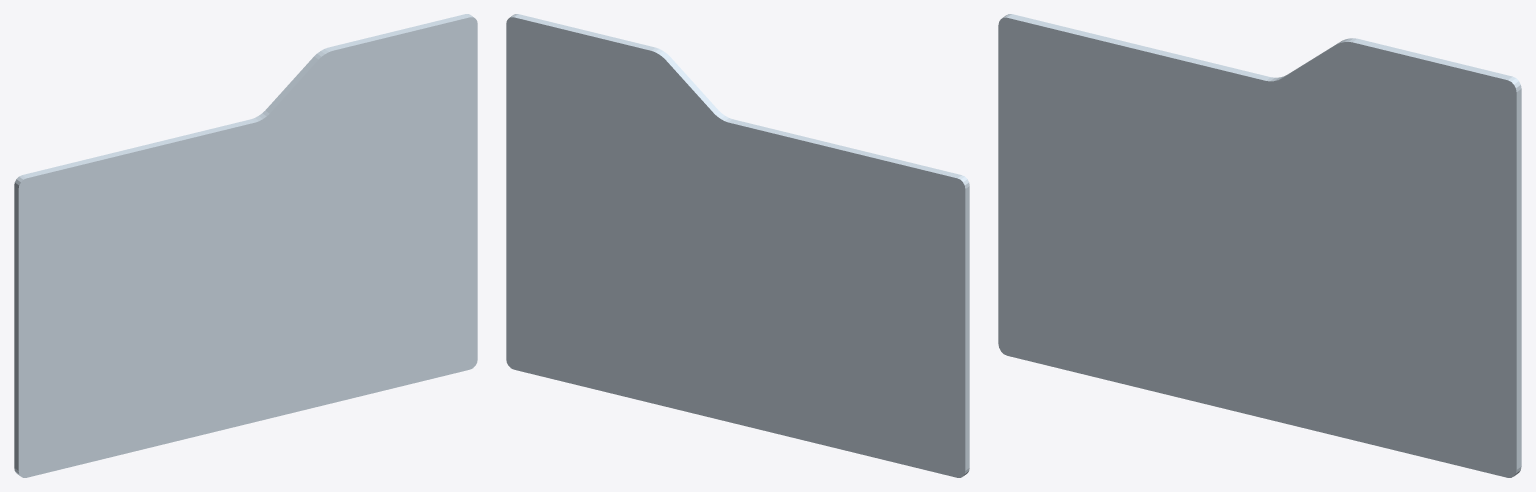
Rendered from Folder_3D_Icon_02.fbx.
3 renders of one model, left to right at view 1: azimuth 30°, elevation 25°; view 2: azimuth 150°, elevation 25°; view 3: azimuth 330°, elevation 25°, orthographic. The views are drawn at different scales.
Visible parts, largest first — view 1: Folder_3D_Icon_02; view 2: Folder_3D_Icon_02; view 3: Folder_3D_Icon_02.
Boxes of the visible parts, x1,y1,x2,y2 form: Folder_3D_Icon_02: (14, 14, 477, 477); Folder_3D_Icon_02: (506, 14, 969, 477); Folder_3D_Icon_02: (998, 14, 1521, 477).
Bounding box in the file's own units: 119 × 87.12 × 2.
